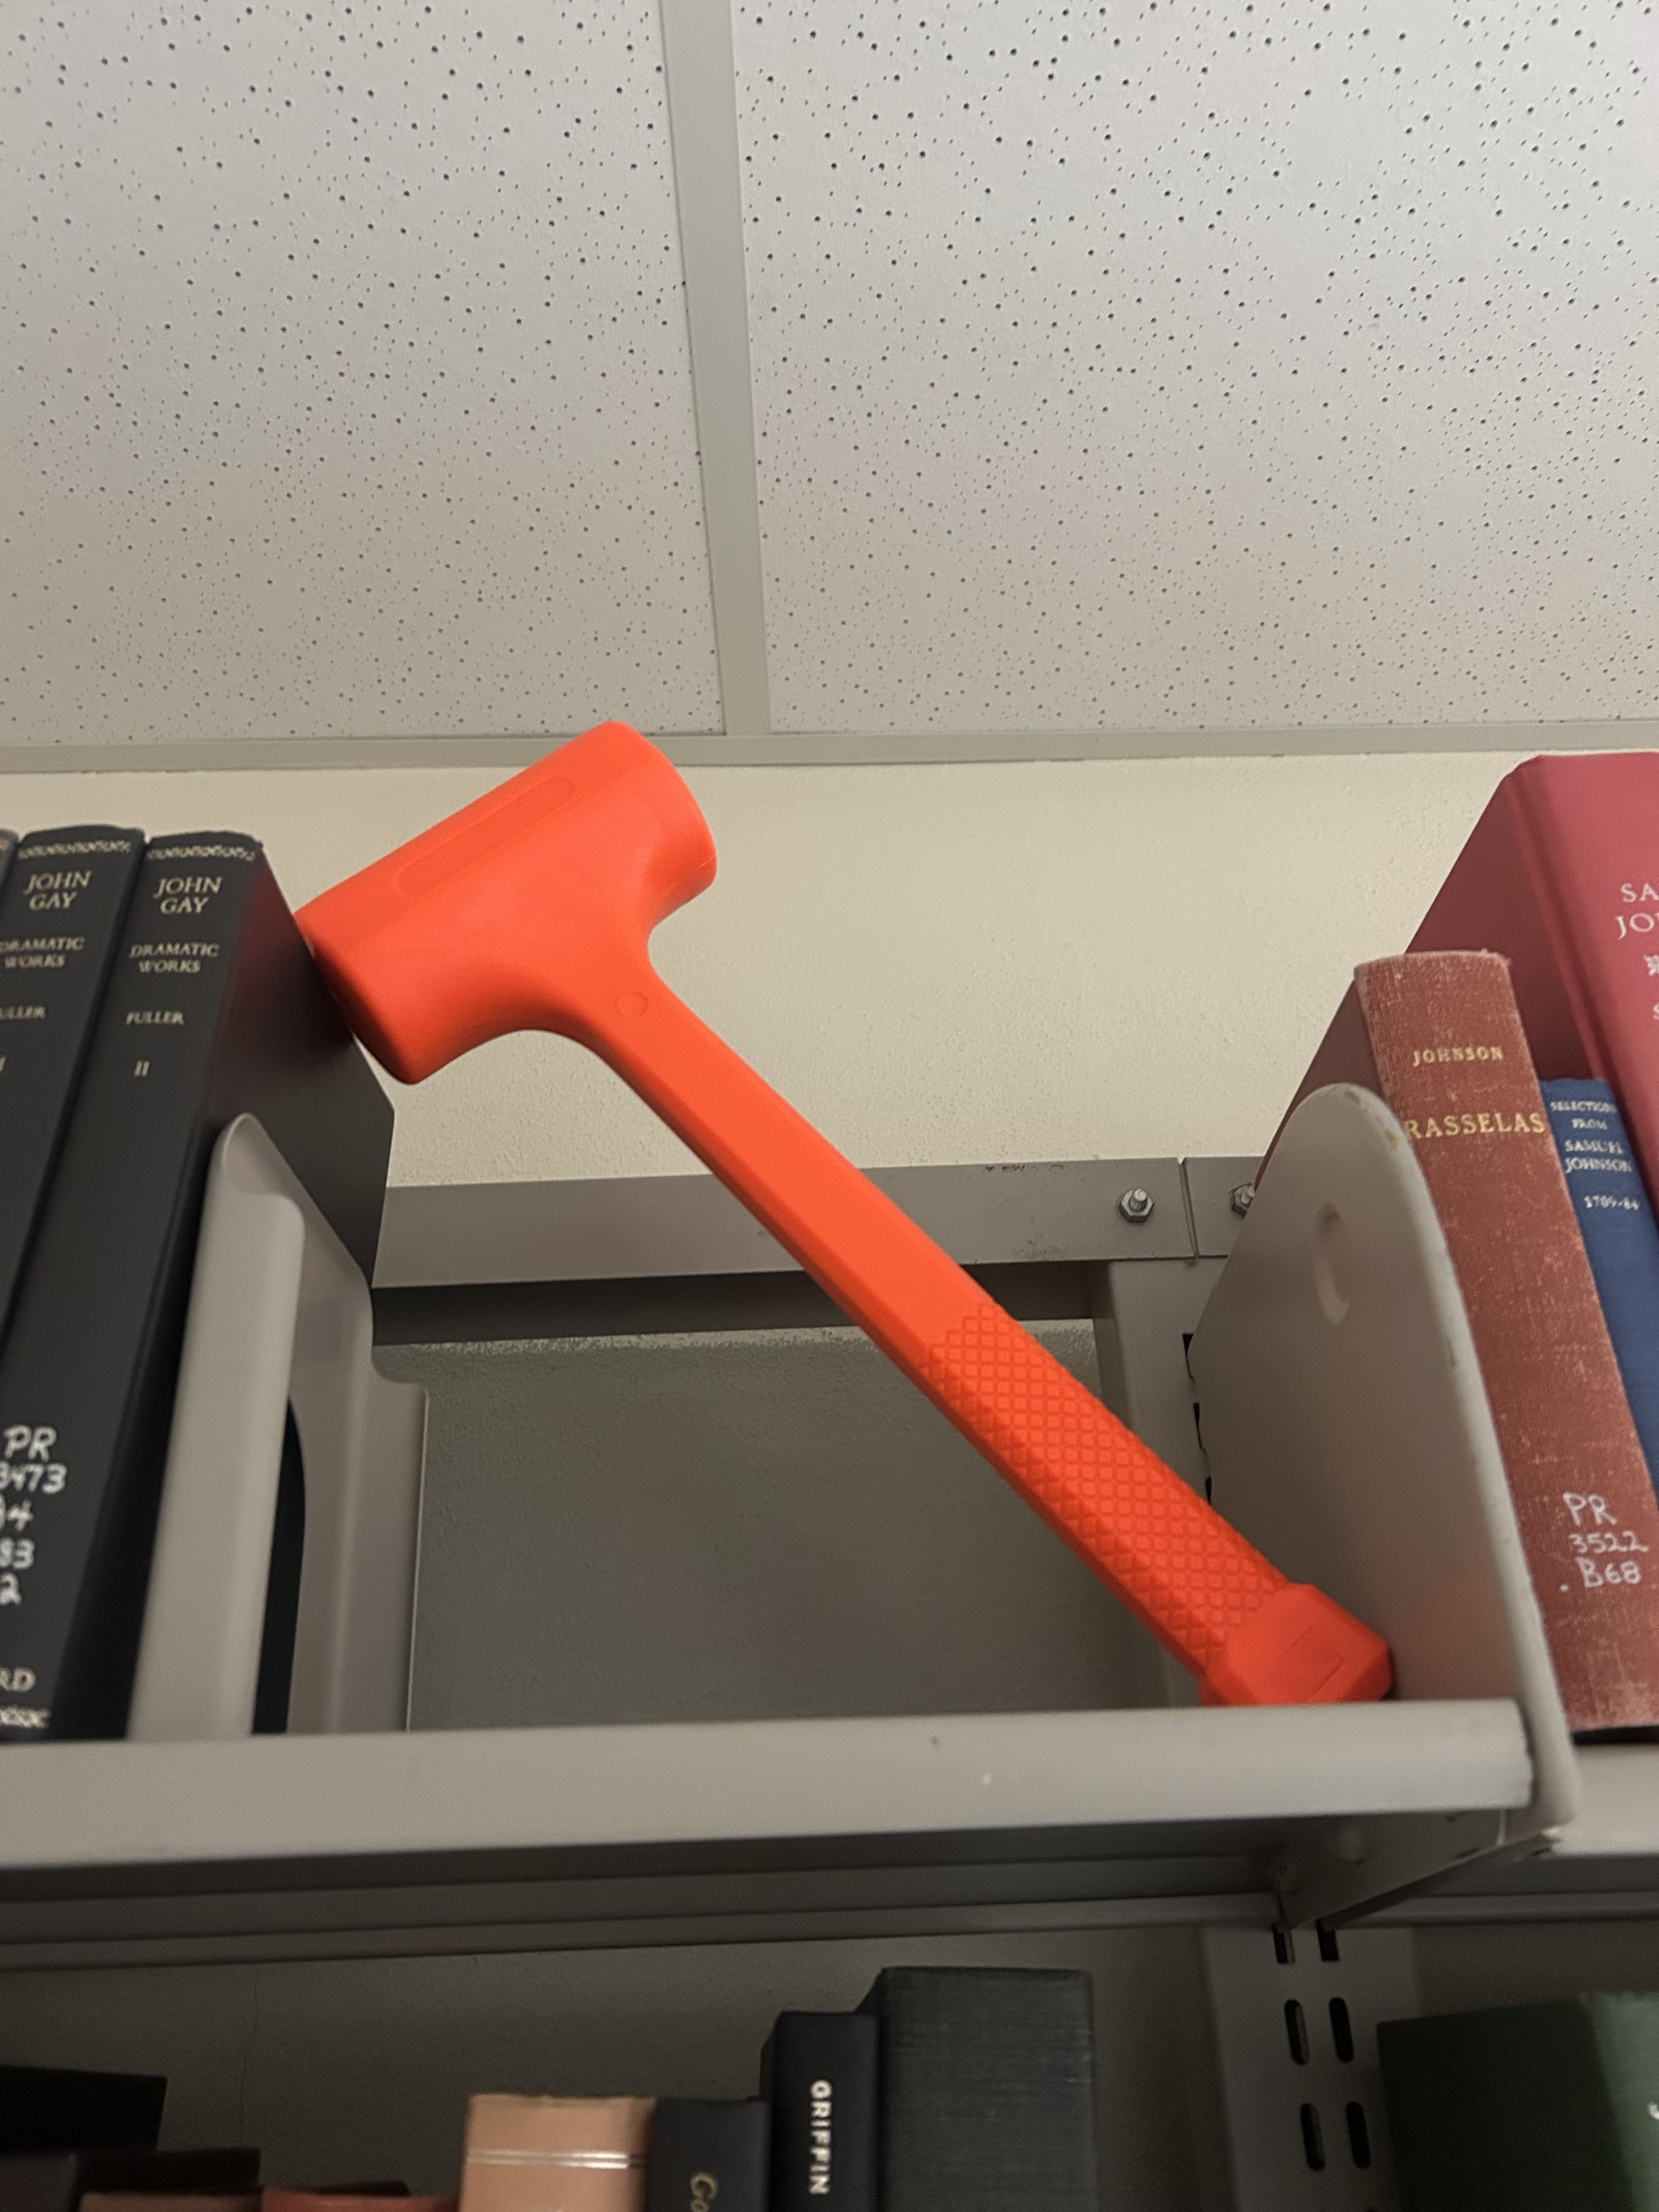Hammer: (188, 707, 1415, 1763)
